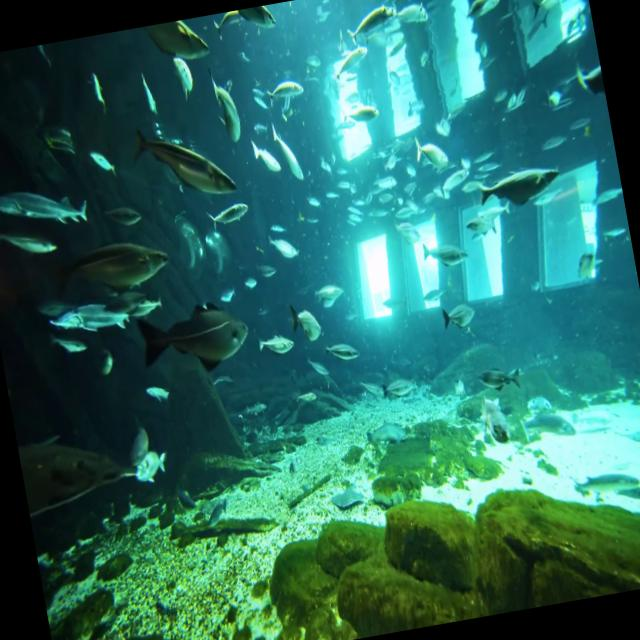fish: (123, 100, 240, 214), (130, 285, 252, 393), (42, 211, 176, 309), (0, 163, 96, 248), (469, 154, 566, 222), (42, 296, 140, 349), (198, 64, 253, 157), (142, 15, 218, 74), (264, 110, 314, 194), (331, 0, 404, 57), (0, 209, 62, 271), (90, 186, 150, 242), (403, 116, 457, 178), (207, 3, 280, 48), (416, 233, 472, 279), (260, 67, 308, 120), (129, 437, 175, 492), (285, 294, 328, 352), (302, 260, 349, 312), (473, 352, 525, 399), (34, 116, 81, 165), (334, 94, 388, 136), (428, 159, 474, 205), (570, 52, 607, 108), (46, 321, 94, 364), (440, 290, 480, 341), (81, 134, 121, 183), (85, 61, 116, 120), (253, 322, 300, 360), (456, 0, 512, 30), (394, 0, 438, 36), (246, 136, 282, 180), (84, 338, 118, 382), (320, 333, 360, 368), (134, 378, 174, 406), (302, 348, 333, 383), (290, 376, 318, 407)
